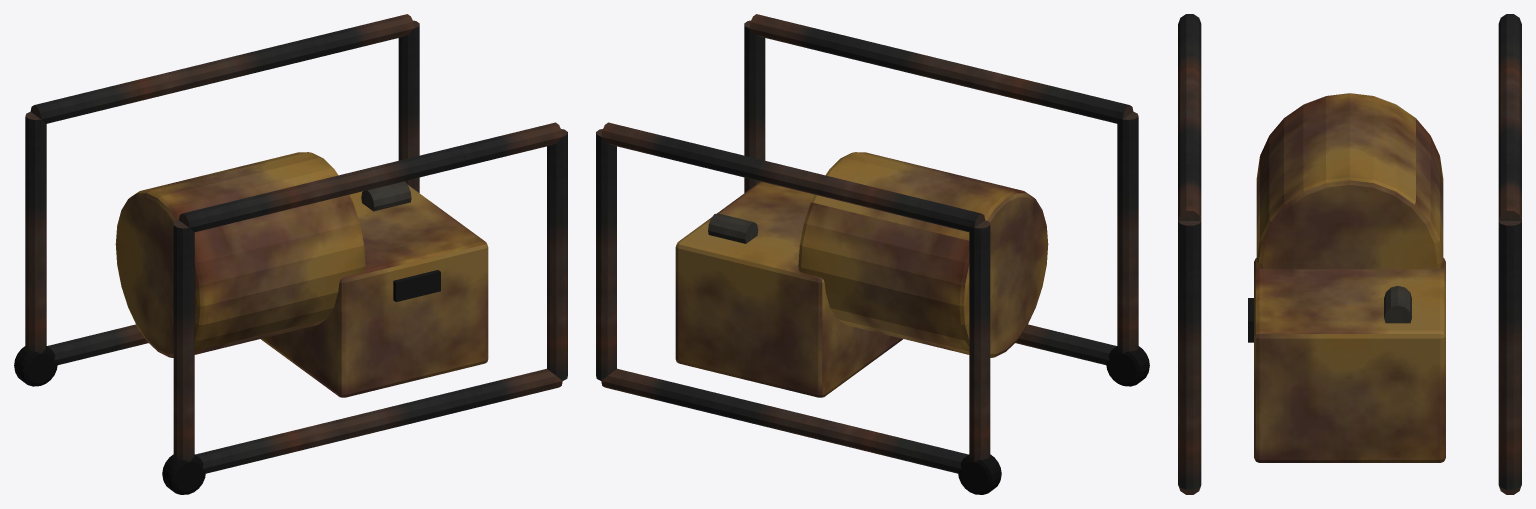
Rendered from CS15_PortableGenerator.glb.
The picture shows the model from 3 angles, left to right: view 1: azimuth 30°, elevation 25°; view 2: azimuth 150°, elevation 25°; view 3: azimuth 270°, elevation 25°; orthographic projection. The views are drawn at different scales.
Visible parts, largest first — view 1: CS15_PortableGenerator; view 2: CS15_PortableGenerator; view 3: CS15_PortableGenerator.
Boxes of the visible parts, <box> form: CS15_PortableGenerator: <box>14,14,567,494</box>; CS15_PortableGenerator: <box>596,14,1149,494</box>; CS15_PortableGenerator: <box>1178,14,1521,494</box>.
Size of the model in its own units: 0.8 by 0.5299 by 0.5495.
5 materials, 5 textured.
